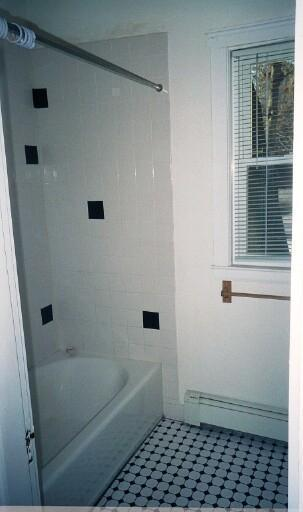Ventana: (228, 47, 289, 270)
